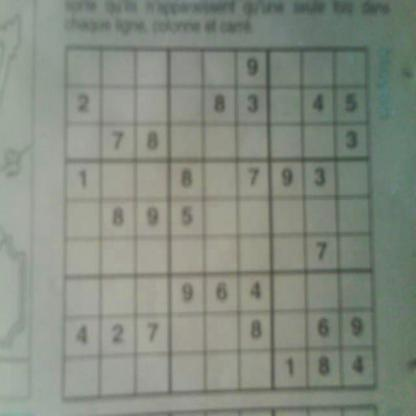sudoku: (58, 39, 382, 408)
